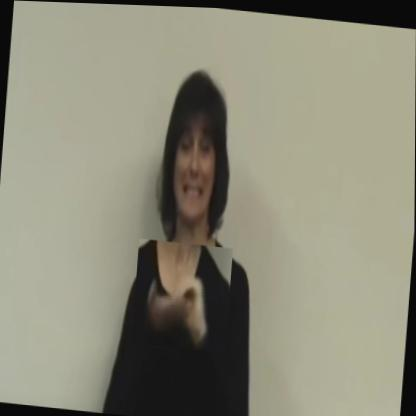ExcuseMe: (132, 237, 234, 352)
